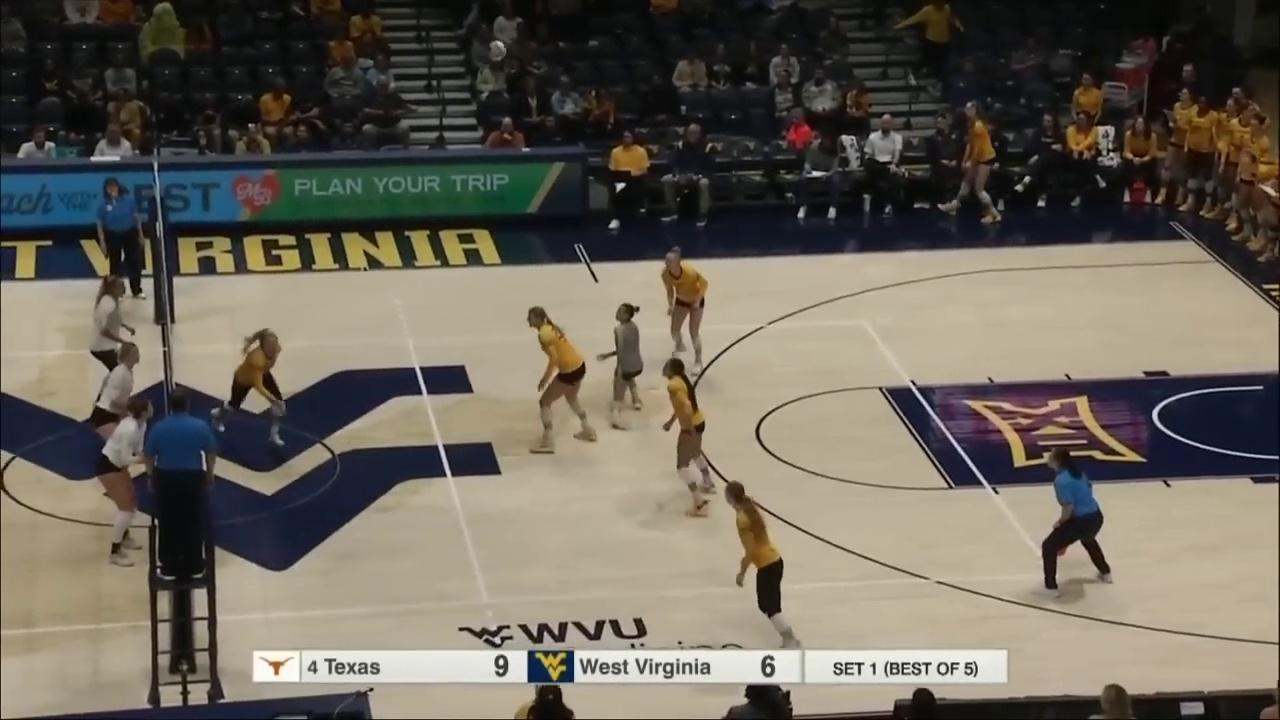player: (727, 481, 802, 650), (527, 309, 598, 455), (95, 397, 155, 567), (213, 328, 286, 448), (662, 358, 714, 515), (91, 343, 141, 490), (659, 246, 707, 375), (92, 275, 133, 412), (599, 304, 645, 426)
refree: (144, 392, 217, 582), (1040, 448, 1115, 597), (97, 177, 145, 301)
